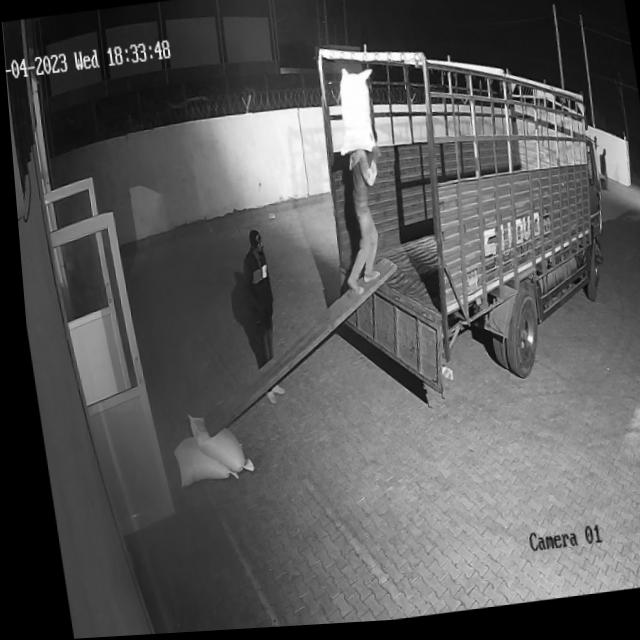sack: (325, 68, 381, 160), (178, 407, 246, 480), (163, 433, 229, 487)
